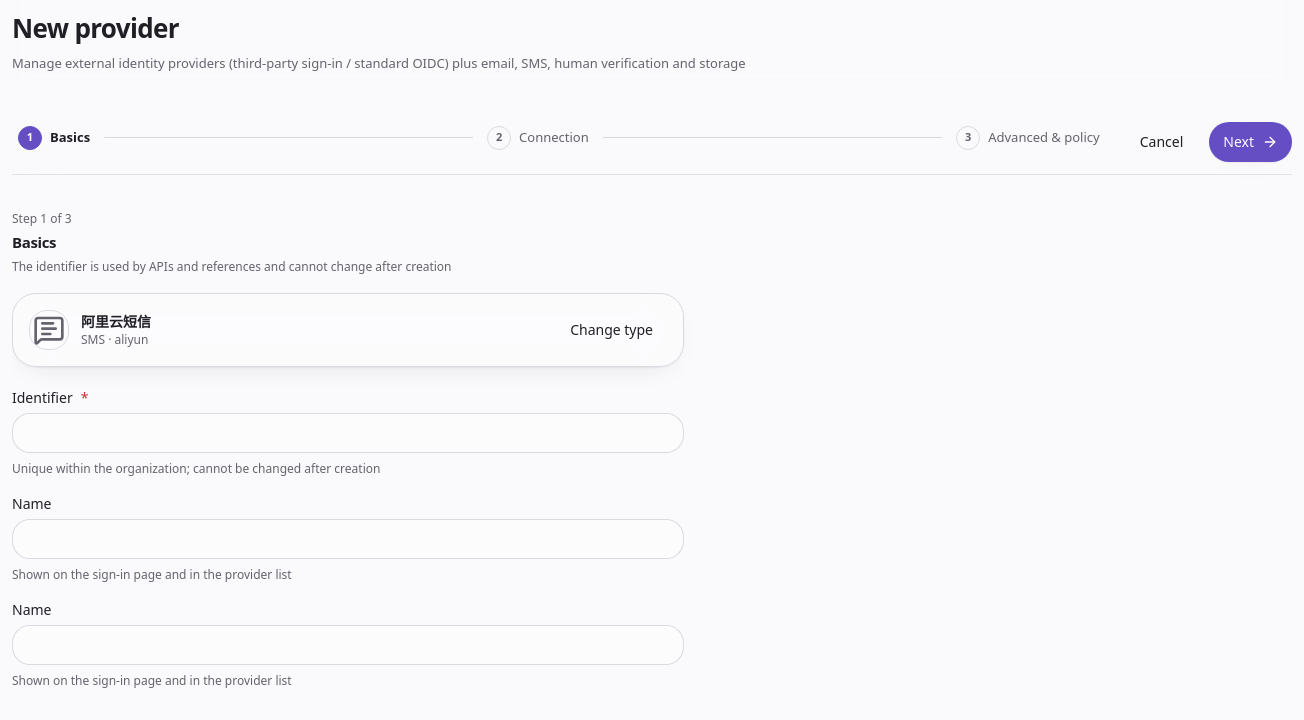
ProviderEditPage › 类型专属标签：阿里云短信的高级步显示「接口地址 / 区域 / 自检手机号」，不是通用的「端点」
This screenshot has width=1304, height=720.
Check: the text "阿里云短信" is shown, box x1=81 y1=312 x2=151 y2=331
Click the button "3 Advanced & policy" at (1028, 138), box x1=950 y1=122 x2=1106 y2=154
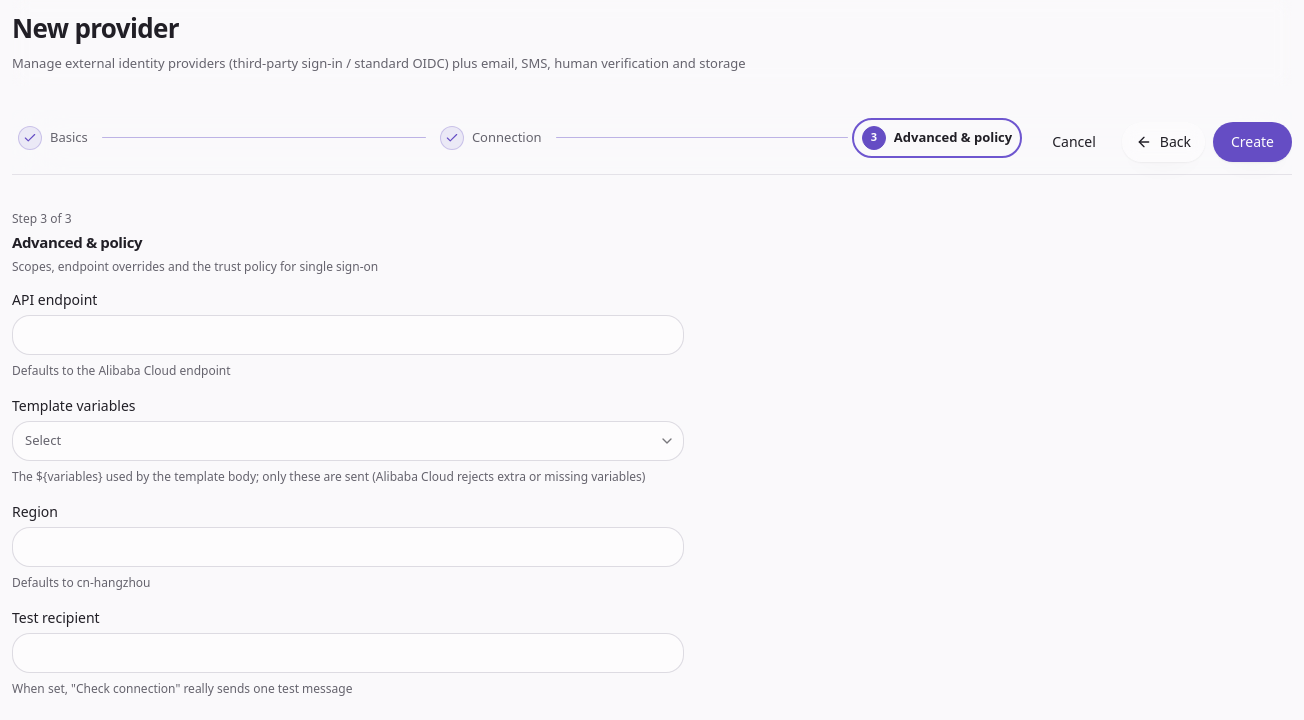
Check: the text "API endpoint" is shown, box x1=12 y1=290 x2=97 y2=309
Check: the text "Defaults to cn-hangzhou" is shown, box x1=12 y1=574 x2=150 y2=591
Check: the text "Template variables" is shown, box x1=12 y1=396 x2=136 y2=415
